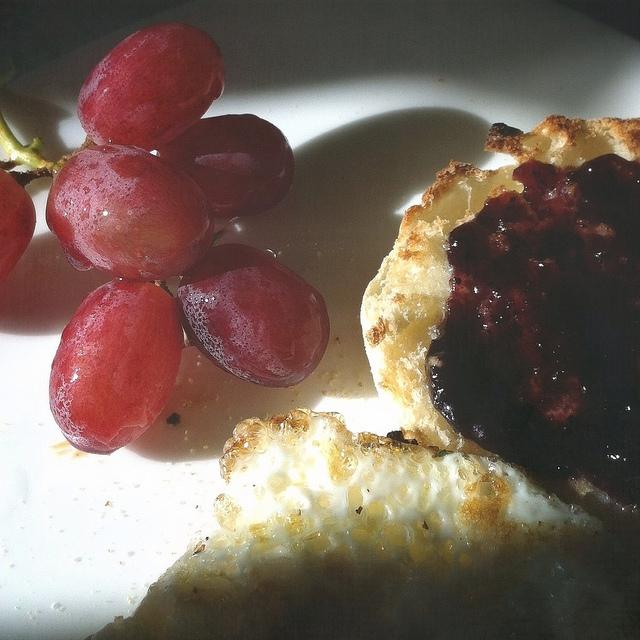grape: (49, 276, 184, 456), (46, 144, 218, 284), (177, 243, 330, 388), (77, 20, 226, 153), (154, 114, 294, 219), (0, 168, 38, 290)
